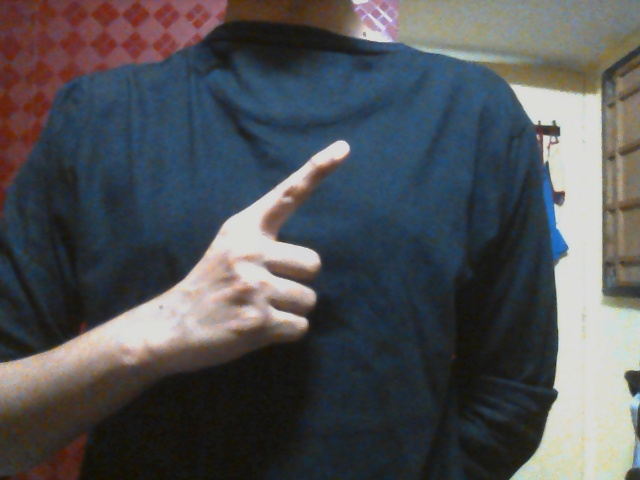I: (187, 138, 354, 368)
